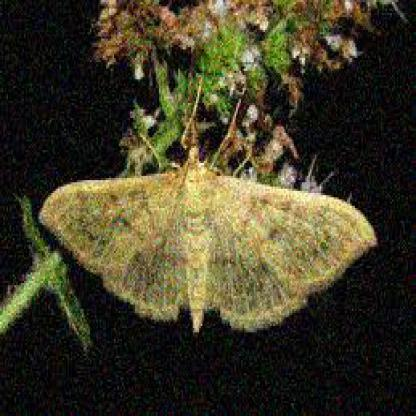Leaf Webber: (36, 146, 374, 338)
